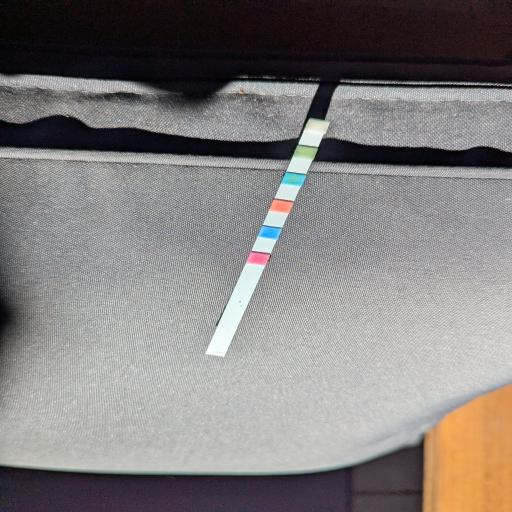strip: (207, 119, 331, 357)
